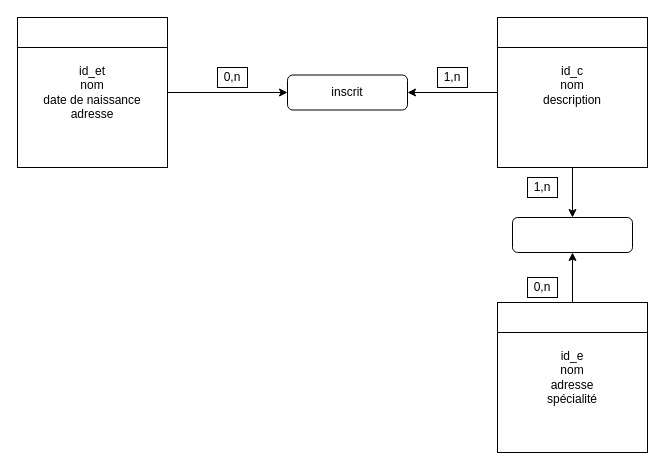
The diagram is 665 pixels wide and 470 high, and some of its shapes have lost their labels. The centre of each missing label's shape, as x and y in pixels:
"Cours" belongs at (x=572, y=32).
"Enseignants" belongs at (x=572, y=317).
"enseigner" belongs at (x=572, y=234).
"Etudiants" belongs at (x=92, y=32).
